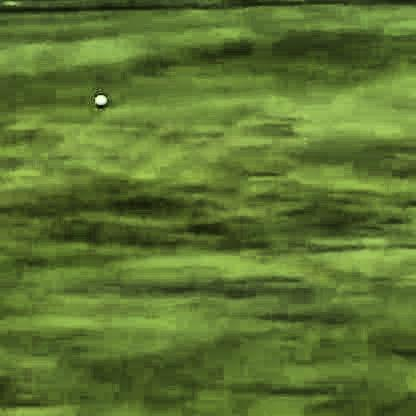golfball: (91, 94, 107, 105)
